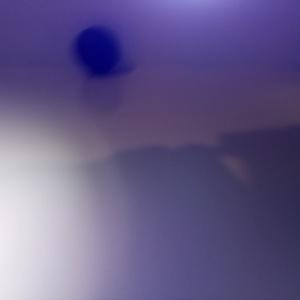dead_ball: (73, 25, 121, 75)
